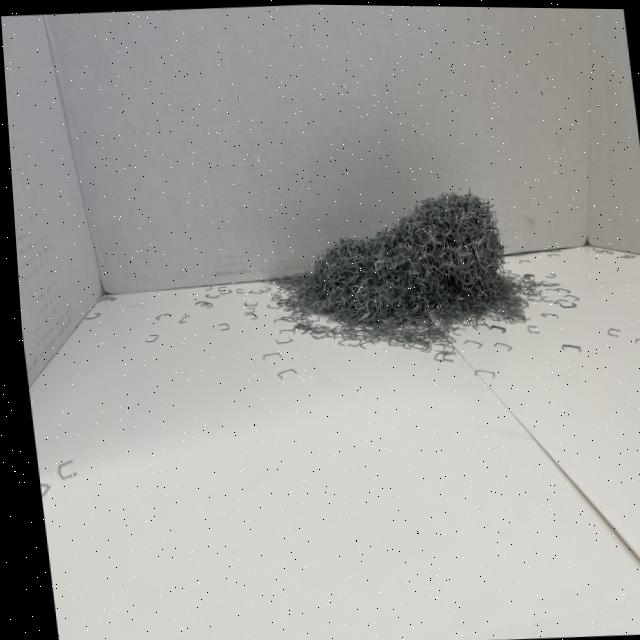staples: (268, 180, 531, 341)
